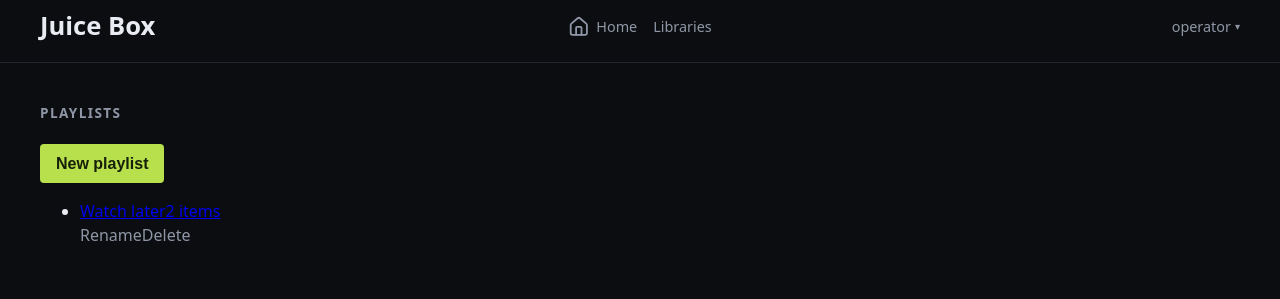
PlaylistsScreen › renames a playlist and the list reflects it after the refetch
Expected: the list with test id "playlists" is shown, [80,200,220,247]
Click the button with test id "rename-playlist-button".
click(111, 235)  # box [80,223,142,247]
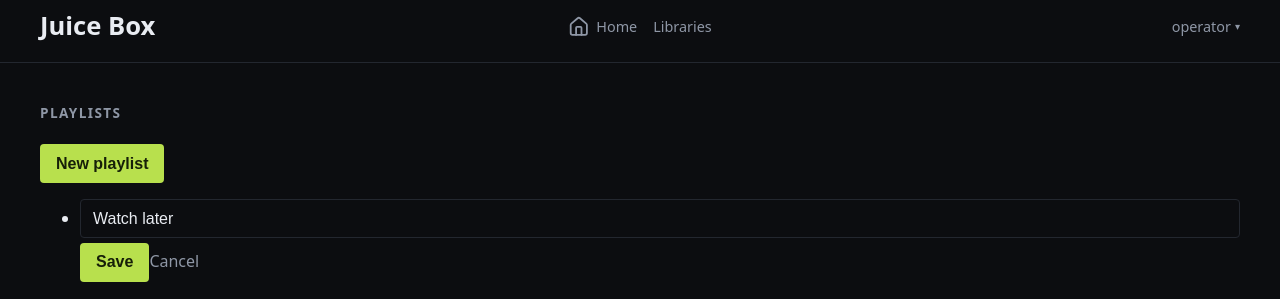
Replace the text in the field with test id "rename-playlist-input" with "Tonight" at (660, 219), box [80,199,1240,238]
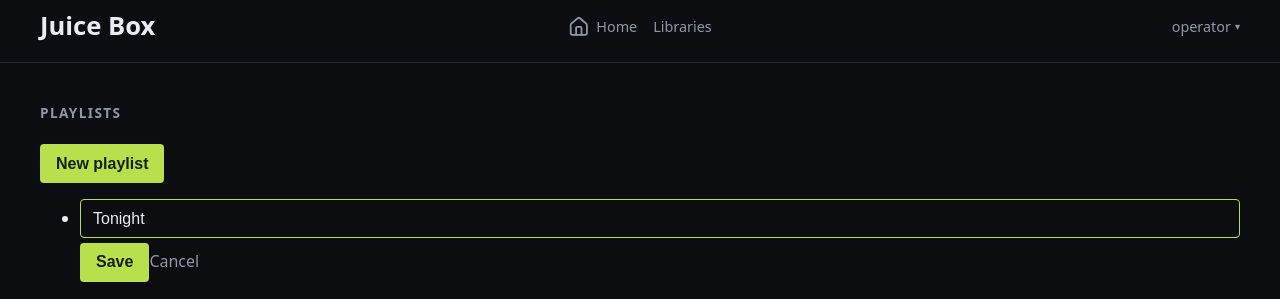
Click the button with test id "save-playlist-button".
click(115, 262)  # box [80,243,149,282]
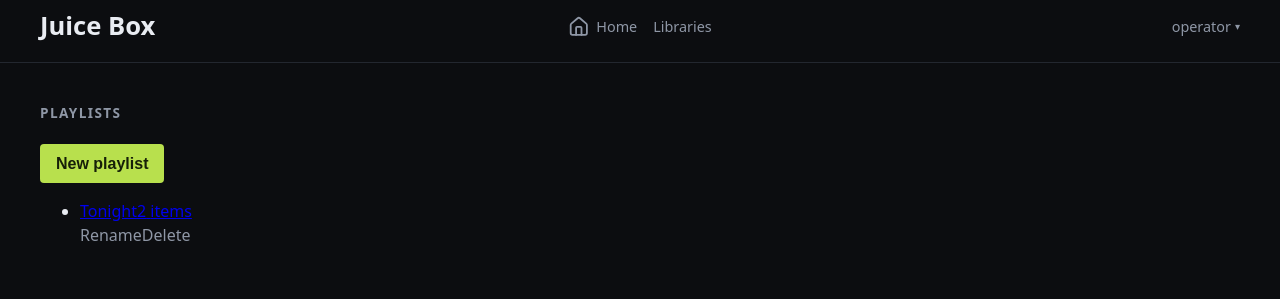
Now the text with test id "playlist-name" reads "Tonight", box [80,200,137,222]
